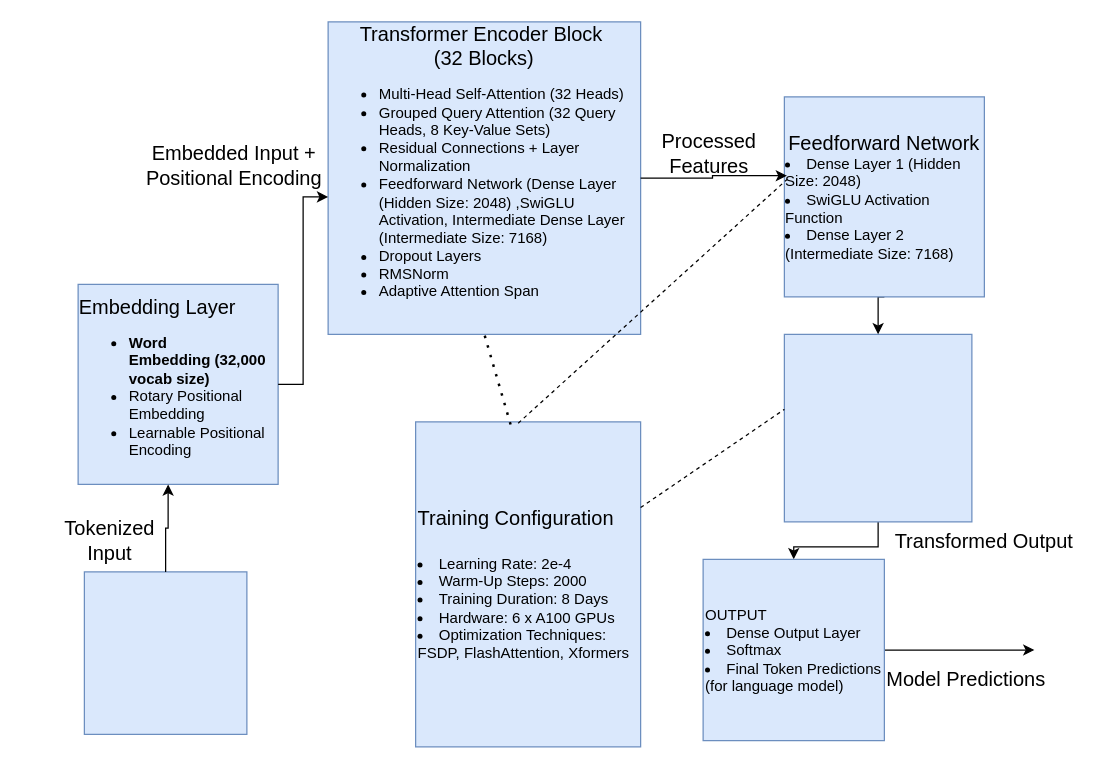
The diagram is 1105 pixels wide and 769 high, and some of its shapes have lost their labels. The centre of each missing label's shape, as x and y in pixels:
"Input Data Veterinary Text Data Tokenized Input" belongs at pixel 165 652.
"Normalization Layers RMSNorm Layer Normalization Residual Connections" belongs at pixel 877 427.
